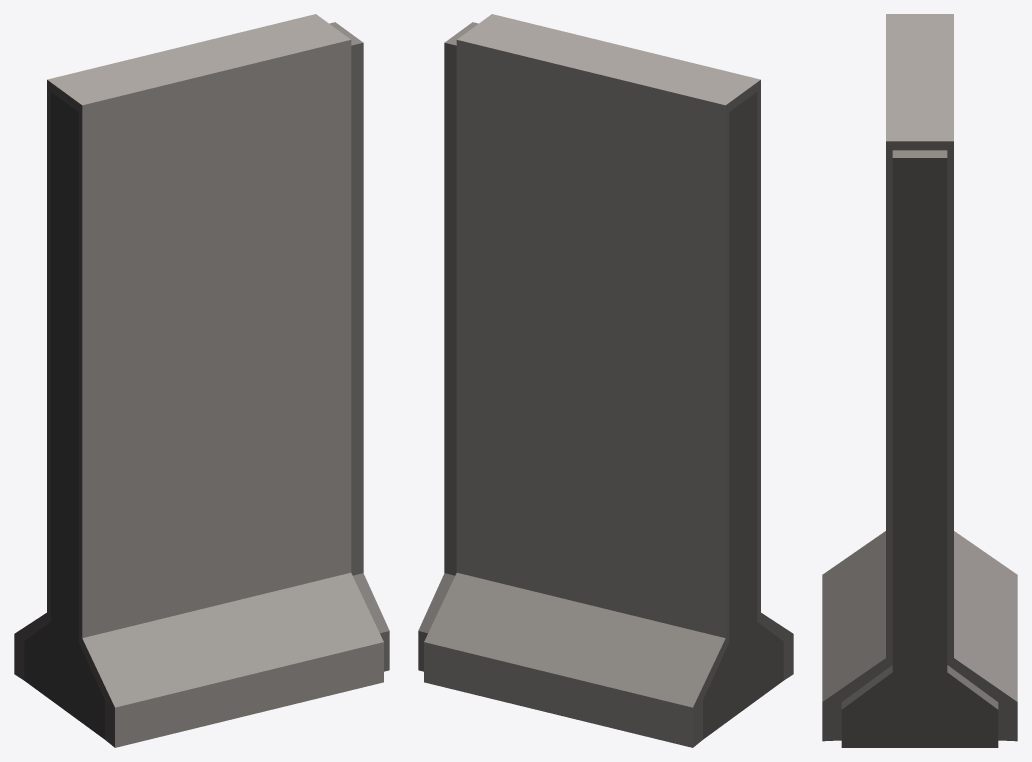
Rendered from SecurityWallPiece_01.fbx.
The picture shows the model from 3 angles, left to right: view 1: azimuth 30°, elevation 25°; view 2: azimuth 150°, elevation 25°; view 3: azimuth 270°, elevation 25°; orthographic projection. The views are drawn at different scales.
Parts seen in each view (by area): view 1: SecurityWallPiece_01; view 2: SecurityWallPiece_01; view 3: SecurityWallPiece_01.
Part boxes in pixels (x1=…): SecurityWallPiece_01: x1=14, y1=14, x2=389, y2=747; SecurityWallPiece_01: x1=418, y1=14, x2=793, y2=747; SecurityWallPiece_01: x1=822, y1=14, x2=1017, y2=747.
Bounding box in the file's own units: 2.38 × 1.46 × 4.94.
